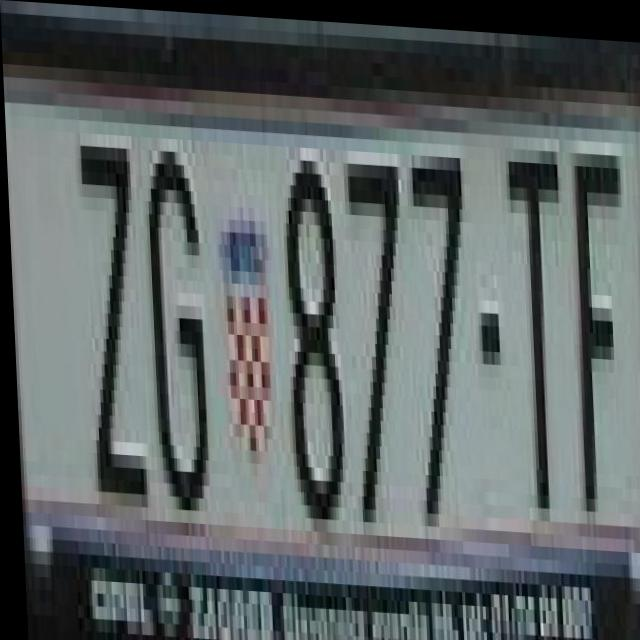7: (404, 136, 477, 511), (339, 159, 400, 532)
8: (277, 104, 341, 529)
F: (572, 132, 625, 518)
G: (147, 135, 209, 509)
T: (504, 142, 571, 516)
Z: (73, 132, 146, 506)
